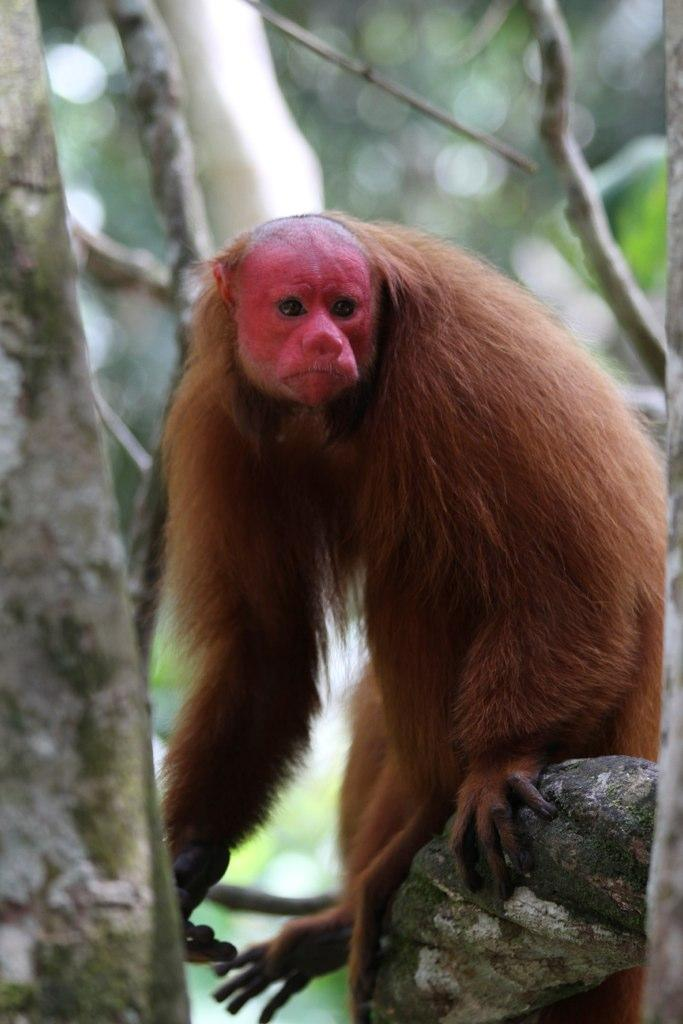monkey: (152, 212, 669, 1024)
